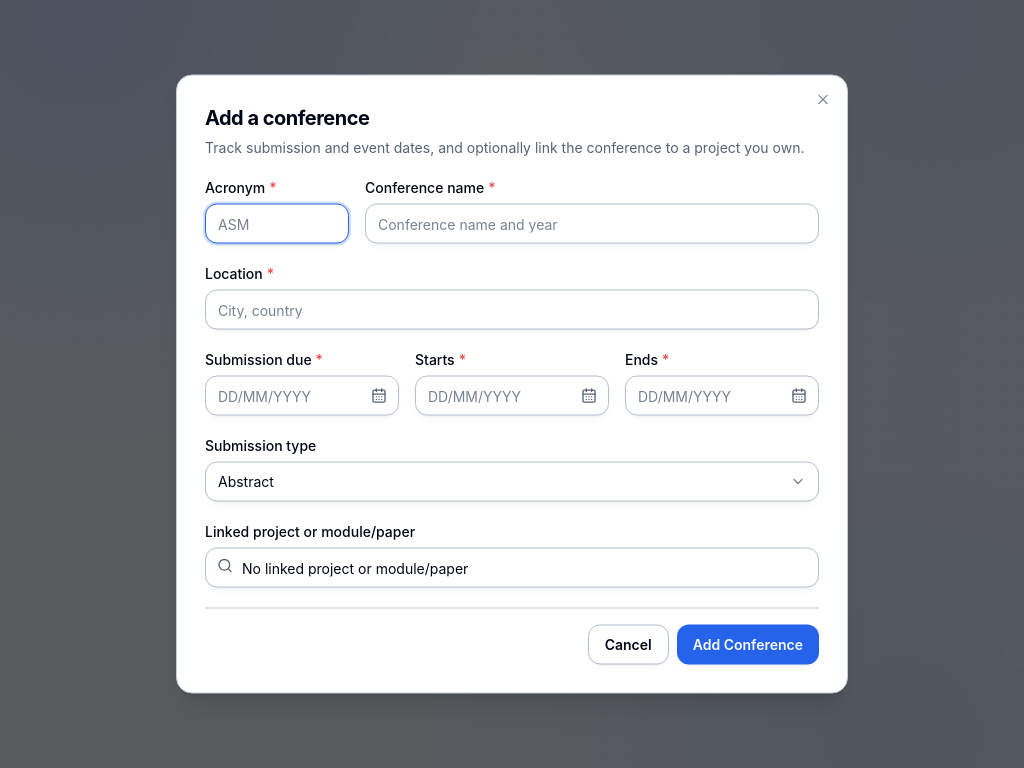
Test: ConferenceSubmissionDialog › clears the link with the clear button
Focus the dropdown labelled "Linked project or module/paper" at (512,568), box [205,548,819,588]
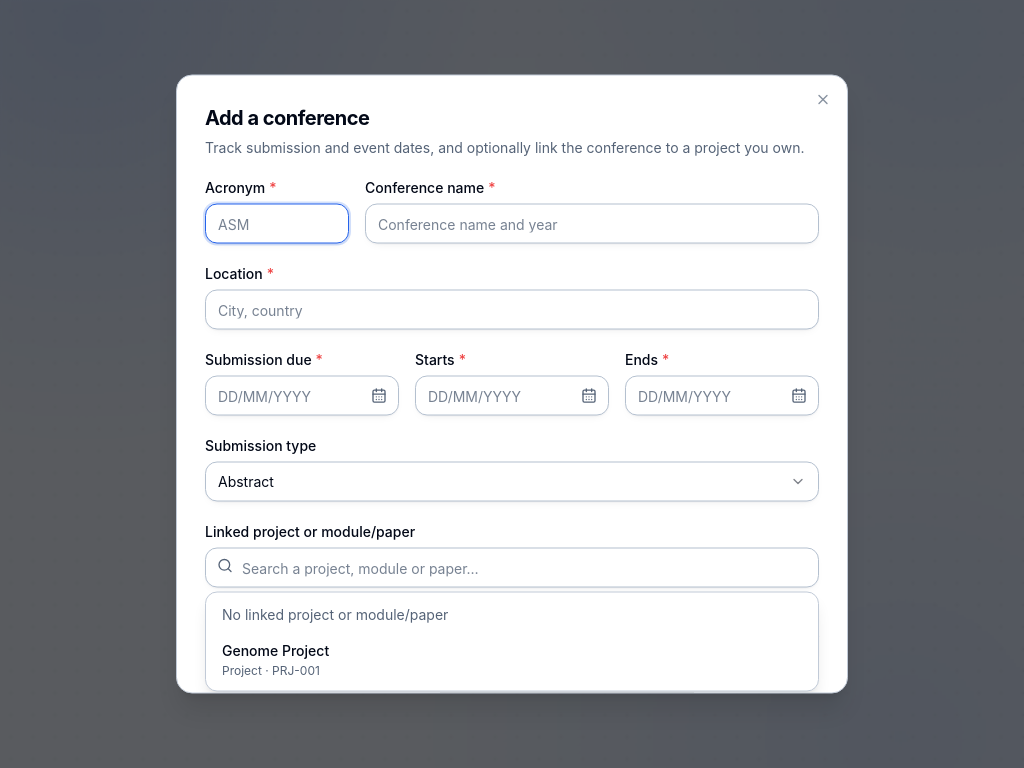
Click the option "Genome Project Project · PRJ-001".
click(276, 650)  # box [210,632,814,686]
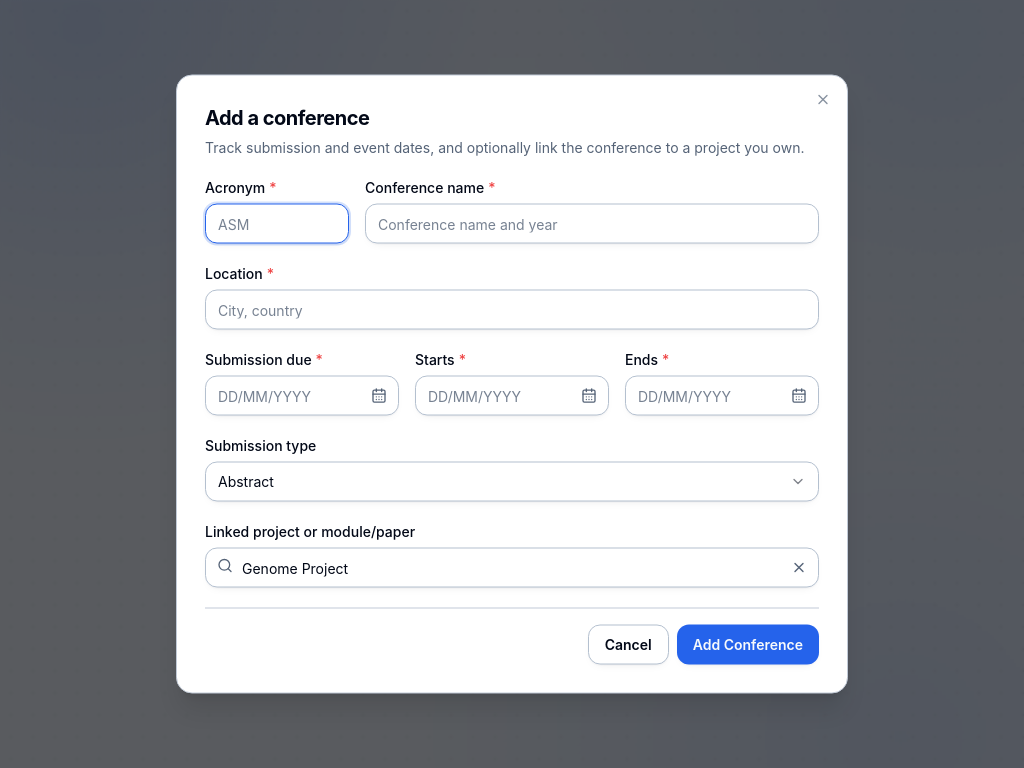
Expected: the dropdown labelled "Linked project or module/paper" holds "Genome Project", [205,548,819,588]
Click the button named "Clear linked project or module/paper".
click(799, 568)  # box [783,552,815,584]
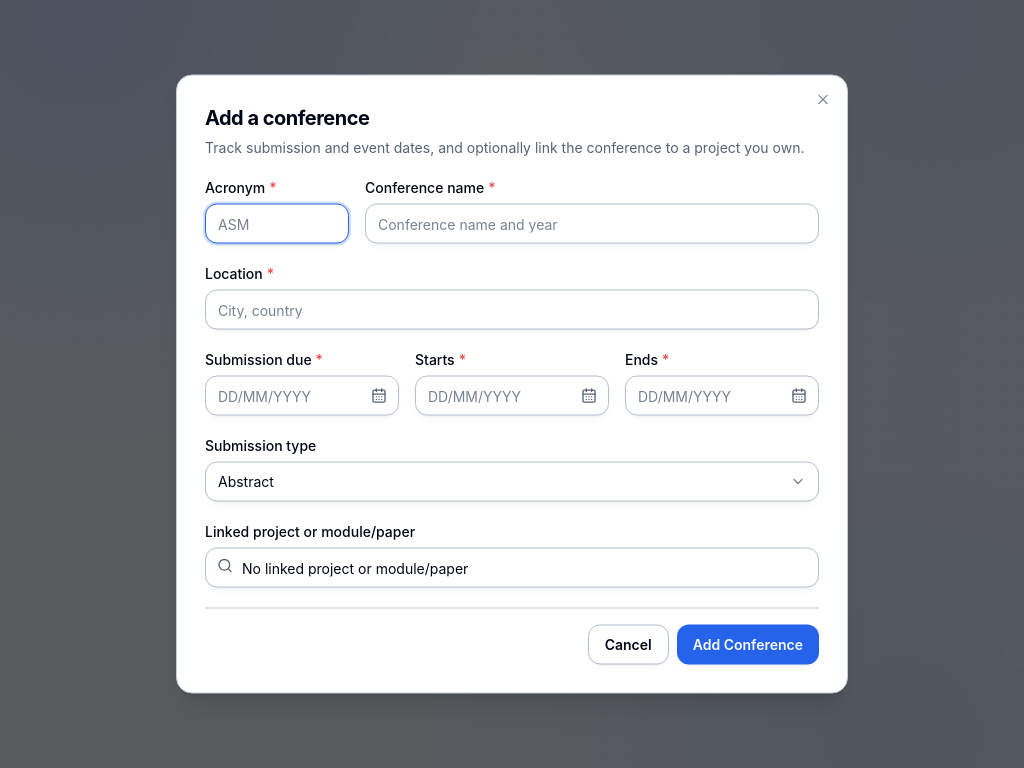
Expected: the dropdown labelled "Linked project or module/paper" holds "No linked project or module/paper", [205,548,819,588]
